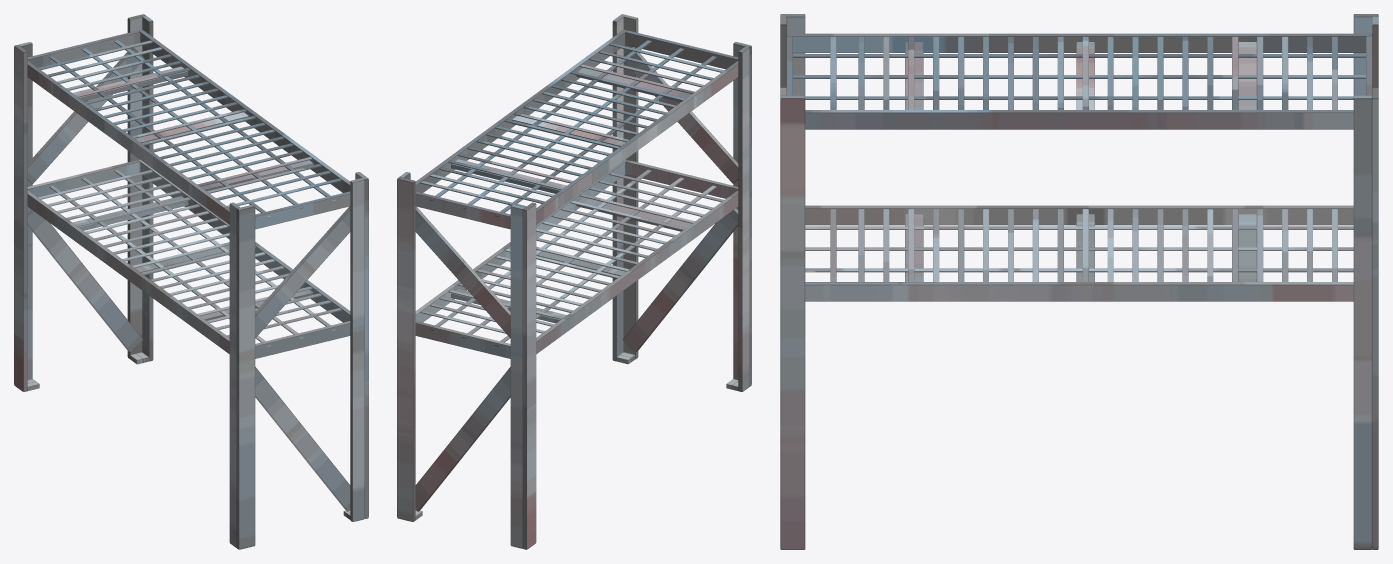
Rendered from Shelving_2.fbx.
3 views of the same model, side by side, from view 1: azimuth 30°, elevation 25°; view 2: azimuth 150°, elevation 25°; view 3: azimuth 270°, elevation 25° (orthographic). The views are drawn at different scales.
Parts seen in each view (by area): view 1: cuboid_2, cuboid_5, cuboid, cuboid_39, cuboid_8, cuboid_73, cuboid_72, cuboid_40, cuboid_3, cuboid_70, cuboid_6, cuboid_9 (+27 smaller); view 2: cuboid_6, cuboid, cuboid_1, cuboid_3, cuboid_39, cuboid_8, cuboid_72, cuboid_73, cuboid_40, cuboid_5, cuboid_71, cuboid_2 (+26 smaller); view 3: cuboid_4, cuboid_40, cuboid_9, cuboid_39, cuboid_7, cuboid_8, cuboid_6, cuboid_24, cuboid_53, cuboid_54, cuboid_55, cuboid_22 (+9 smaller).
Boxes of the visible parts, x1,y1,x2,y2 form: cuboid_2: [236, 204, 255, 549]; cuboid_5: [350, 178, 364, 521]; cuboid: [14, 45, 27, 391]; cuboid_39: [27, 61, 229, 224]; cuboid_8: [27, 190, 229, 353]; cuboid_73: [27, 208, 142, 352]; cuboid_72: [255, 367, 350, 511]; cuboid_40: [138, 29, 350, 192]; cuboid_3: [229, 202, 239, 547]; cuboid_70: [255, 206, 350, 337]; cuboid_6: [127, 14, 145, 358]; cuboid_9: [139, 159, 350, 322]; cuboid_6: [397, 177, 415, 521]; cuboid: [523, 202, 536, 549]; cuboid_1: [510, 204, 524, 548]; cuboid_3: [738, 46, 749, 391]; cuboid_39: [536, 61, 738, 224]; cuboid_8: [536, 190, 738, 353]; cuboid_72: [623, 208, 738, 352]; cuboid_73: [415, 367, 510, 511]; cuboid_40: [415, 29, 627, 192]; cuboid_5: [623, 15, 638, 359]; cuboid_71: [415, 206, 510, 337]; cuboid_2: [733, 42, 751, 386]; cuboid_4: [780, 95, 805, 549]; cuboid_40: [805, 110, 1353, 129]; cuboid_9: [805, 282, 1353, 301]; cuboid_39: [786, 33, 1372, 52]; cuboid_7: [1353, 95, 1372, 549]; cuboid_8: [805, 205, 1353, 225]; cuboid_6: [1372, 87, 1378, 549]; cuboid_24: [805, 268, 1353, 272]; cuboid_53: [793, 54, 1365, 57]; cuboid_54: [793, 75, 1365, 78]; cuboid_55: [805, 96, 1353, 99]; cuboid_22: [805, 226, 1353, 229].
Size of the model in its own units: 100 by 250 by 300.
3 materials, 3 textured.
